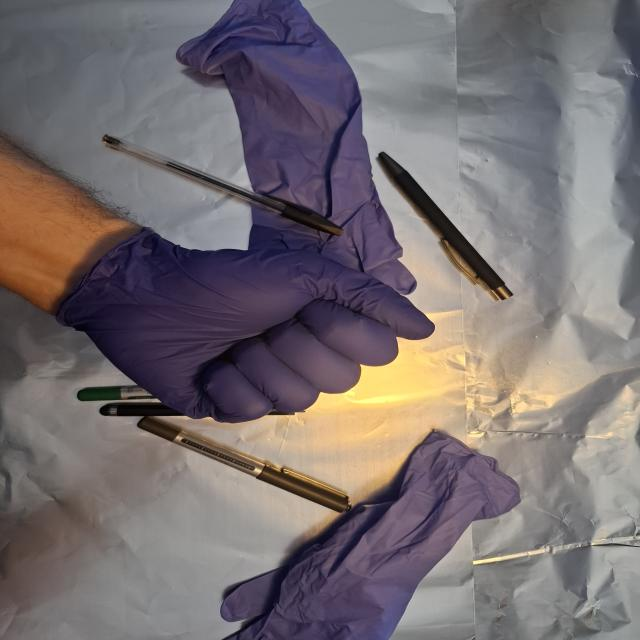glove_on: (64, 228, 441, 426)
